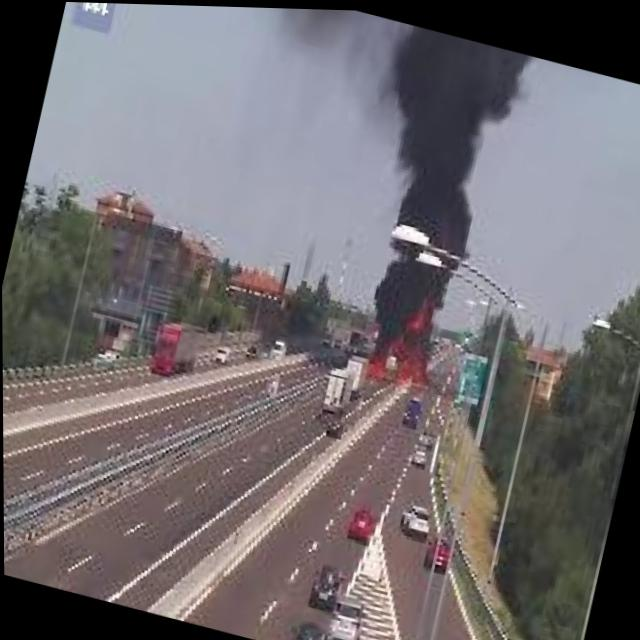fire: (360, 278, 448, 395)
